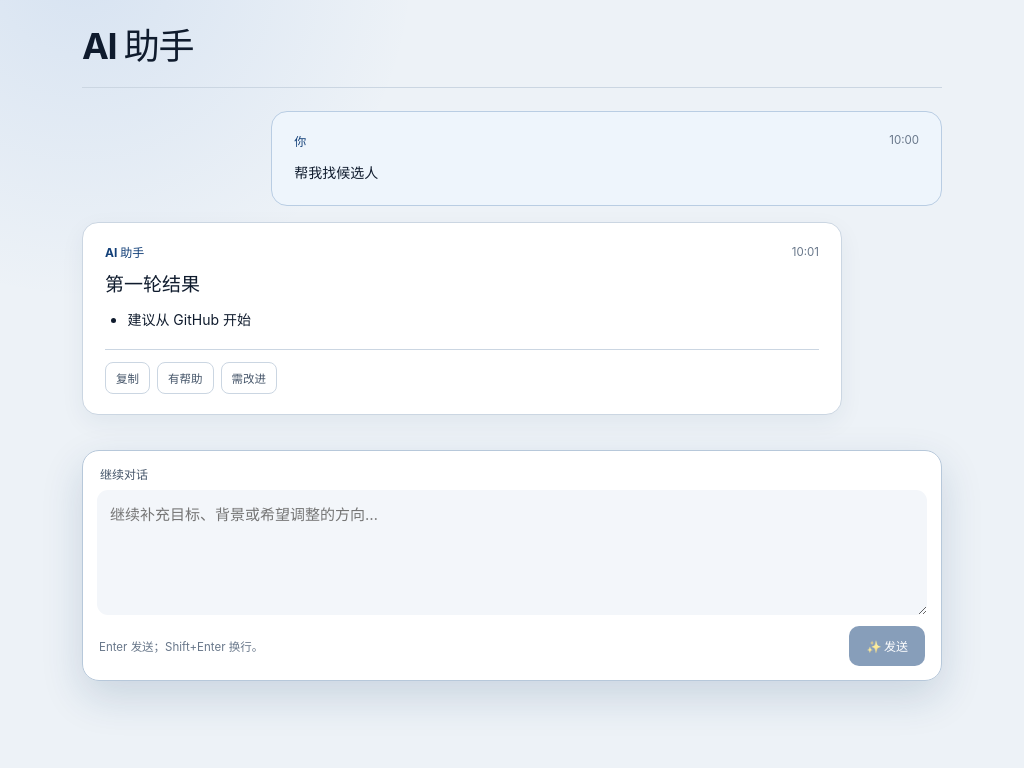
Test case: ConversationPage › submits one rating for the selected assistant answer
Step 1. Click the button with aria-label "这个回答有帮助" → {"x": 185, "y": 378}, box [157,362,214,394]
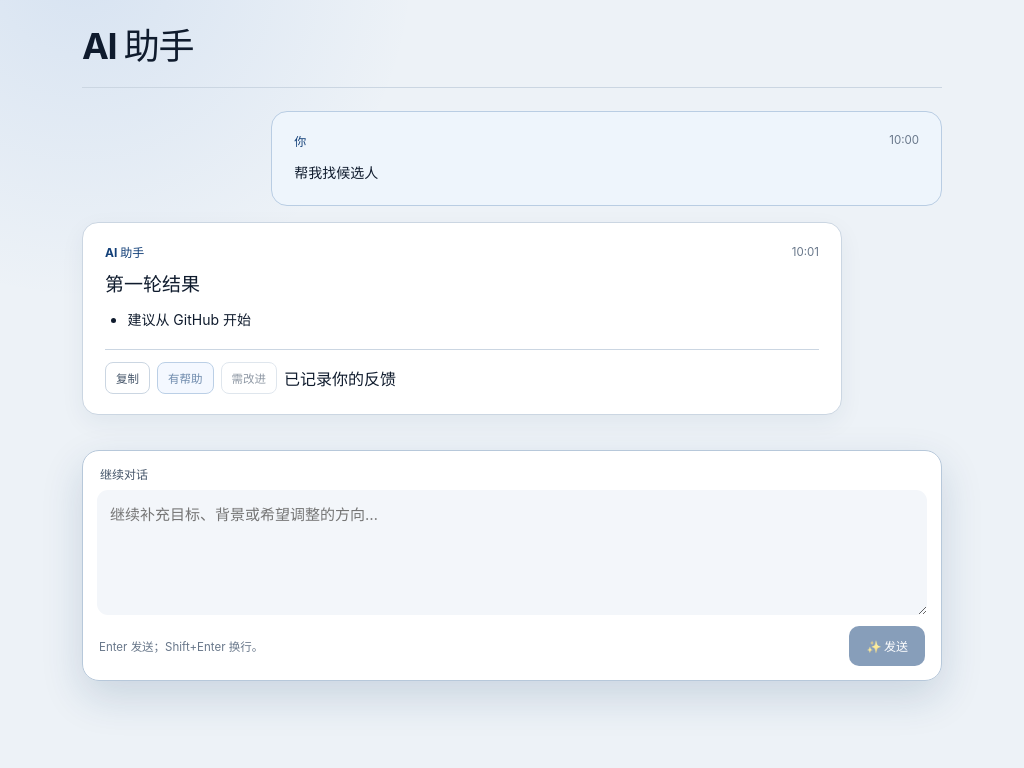
Now the text "已记录你的反馈" is shown, box [284,366,396,390]
Now the button with aria-label "这个回答需改进" is disabled, box [220,362,277,394]
